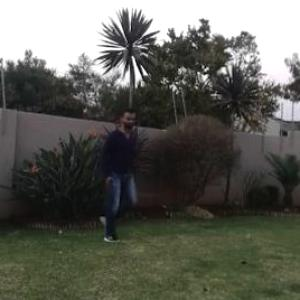follow: (100, 106, 138, 238)
